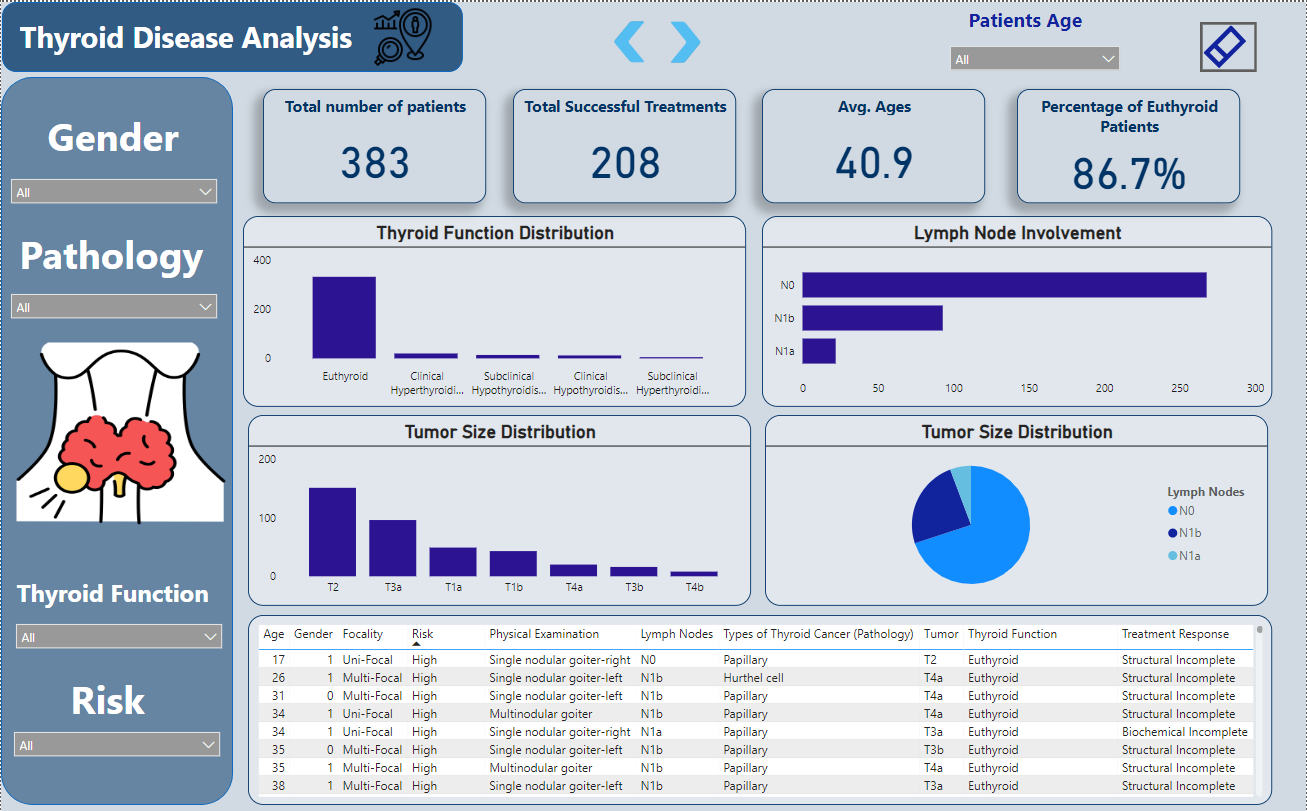

What the dashboard file says about the page in this screenshot:
{"tool":"powerbi","page":{"name":"Disease Characteristics and Risk Indicators","canvas":[1450,900],"ordinal":0},"visuals":[{"type":"shape","box":[1.1,0,512.2,77.8],"z":0},{"type":"image","box":[365.6,0,161.1,77.8],"z":2},{"type":"shape","box":[0,83.3,257.8,808.9],"z":3},{"type":"image","box":[12.2,373.3,242.2,212.2],"z":4},{"type":"card","title":"Total number of patients","fields":{"Values":["Thyroid_Disease.TotalPatients"]},"box":[291.1,96.7,247.8,126.7],"z":7},{"type":"card","title":"Total Successful Treatments","fields":{"Values":["Thyroid_Disease.SuccessfulTreatments"]},"box":[568.9,96.7,247.8,126.7],"z":8},{"type":"card","title":"Avg. Ages","fields":{"Values":["Avg(Thyroid_Disease.Age)"]},"box":[845.6,96.7,247.8,126.7],"z":9},{"type":"card","title":"Percentage of Euthyroid Patients","fields":{"Values":["Thyroid_Disease.PercentageEuthyroid"]},"box":[1128.9,96.7,247.8,126.7],"z":10},{"type":"textbox","box":[15.6,11.1,400,55.6],"z":11},{"type":"image","box":[670,11.1,55.6,66.7],"z":12},{"type":"image","box":[716.7,16.7,88.9,55.6],"z":13},{"type":"columnChart","title":"Thyroid Function Distribution","fields":{"Category":["Thyroid_Disease.Thyroid Function"],"Y":["Thyroid_Disease.TotalPatients"]},"box":[268.9,237.8,558.9,212.2],"z":14},{"type":"clusteredBarChart","title":"Lymph Node Involvement","fields":{"Y":["Thyroid_Disease.TotalPatients"],"Category":["Thyroid_Disease.Lymph Nodes"]},"box":[845.6,237.8,566.7,212.2],"z":15},{"type":"columnChart","title":"Tumor Size Distribution","fields":{"Category":["Thyroid_Disease.Tumor"],"Y":["Thyroid_Disease.TotalPatients"]},"box":[274.4,458.9,558.9,212.2],"z":16},{"type":"pieChart","title":"Tumor Size Distribution","fields":{"Y":["Thyroid_Disease.TotalPatients"],"Category":["Thyroid_Disease.Lymph Nodes"]},"box":[848.9,458.9,558.9,212.2],"z":17},{"type":"tableEx","fields":{"Values":["Thyroid_Disease.Age","Thyroid_Disease.Gender","Thyroid_Disease.Focality","Thyroid_Disease.Risk","Thyroid_Disease.Physical Examination","Thyroid_Disease.Lymph Nodes","Thyroid_Disease.Types of Thyroid Cancer (Pathology)","Thyroid_Disease.Tumor","Thyroid_Disease.Thyroid Function","Thyroid_Disease.Treatment Response"]},"box":[274.4,681.1,1137.8,211.1],"z":18},{"type":"slicer","fields":{"Values":["Thyroid_Disease.Gender"]},"box":[1.1,186.7,248.9,58.9],"z":19},{"type":"textbox","box":[46.7,114.4,168.9,72.2],"z":20},{"type":"slicer","fields":{"Values":["Thyroid_Disease.Types of Thyroid Cancer (Pathology)"]},"box":[1.1,314.4,248.9,58.9],"z":21},{"type":"textbox","box":[15.6,245.6,234.4,76.7],"z":22},{"type":"slicer","fields":{"Values":["Thyroid_Disease.Thyroid Function"]},"box":[6.7,681.1,248.9,58.9],"z":23},{"type":"textbox","box":[12.2,632.2,274.4,58.9],"z":24},{"type":"slicer","fields":{"Values":["Thyroid_Disease.Risk"]},"box":[4.4,801.1,248.9,58.9],"z":25},{"type":"textbox","box":[72.2,740,105.6,77.8],"z":26},{"type":"actionButton","box":[1332.2,22.2,63.3,55.6],"z":27},{"type":"slicer","fields":{"Values":["Thyroid_Disease.Age"]},"box":[1044.4,38.9,208.9,66.7],"z":28},{"type":"textbox","box":[1070,0,157.8,51.1],"z":29}]}

Visuals, with their boxes in screenshot pixels (x1, y1, x2, y2), scaled from the page's 1450x900 canvas onto the 1307x811 screenshot:
shape: region(1, 0, 463, 70)
image: region(330, 0, 475, 70)
shape: region(0, 75, 232, 804)
image: region(11, 336, 229, 528)
"Total number of patients" card: region(262, 87, 486, 201)
"Total Successful Treatments" card: region(513, 87, 736, 201)
"Avg. Ages" card: region(762, 87, 986, 201)
"Percentage of Euthyroid Patients" card: region(1018, 87, 1241, 201)
textbox: region(14, 10, 375, 60)
image: region(604, 10, 654, 70)
image: region(646, 15, 726, 65)
"Thyroid Function Distribution" columnChart: region(242, 214, 746, 406)
"Lymph Node Involvement" clusteredBarChart: region(762, 214, 1273, 406)
"Tumor Size Distribution" columnChart: region(247, 414, 751, 605)
"Tumor Size Distribution" pieChart: region(765, 414, 1269, 605)
tableEx - Thyroid_Disease.Age x Thyroid_Disease.Gender: region(247, 614, 1273, 804)
slicer - Thyroid_Disease.Gender: region(1, 168, 225, 221)
textbox: region(42, 103, 194, 168)
slicer - Thyroid_Disease.Types of Thyroid Cancer (Pathology): region(1, 283, 225, 336)
textbox: region(14, 221, 225, 290)
slicer - Thyroid_Disease.Thyroid Function: region(6, 614, 230, 667)
textbox: region(11, 570, 258, 623)
slicer - Thyroid_Disease.Risk: region(4, 722, 228, 775)
textbox: region(65, 667, 160, 737)
actionButton: region(1201, 20, 1258, 70)
slicer - Thyroid_Disease.Age: region(941, 35, 1130, 95)
textbox: region(964, 0, 1107, 46)
